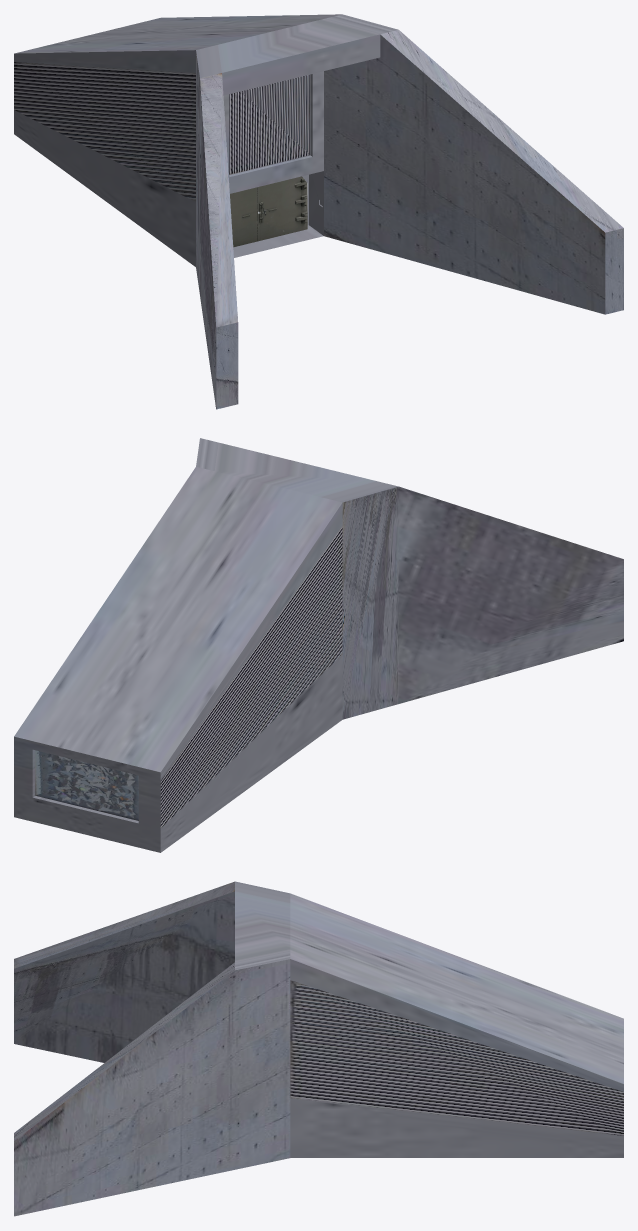
The model's file is bunker3.fbx.
3 views of the same model, one above another, from view 1: azimuth 30°, elevation 25°; view 2: azimuth 150°, elevation 25°; view 3: azimuth 270°, elevation 25° (orthographic). The views are drawn at different scales.
Visible parts, largest first — view 1: Cube; view 2: Cube; view 3: Cube.
Part boxes in pixels (x1,y1,x2,y2): Cube: (14, 14, 623, 409); Cube: (14, 438, 623, 852); Cube: (14, 881, 623, 1216).
Size of the model in its own units: 1562 by 796 by 2207.
